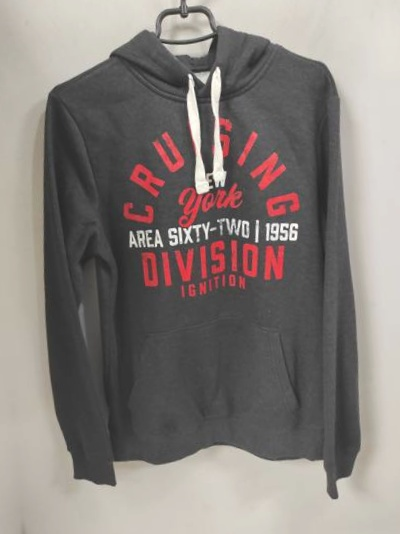Hoodie: (1, 0, 392, 513), (0, 25, 2, 534)
